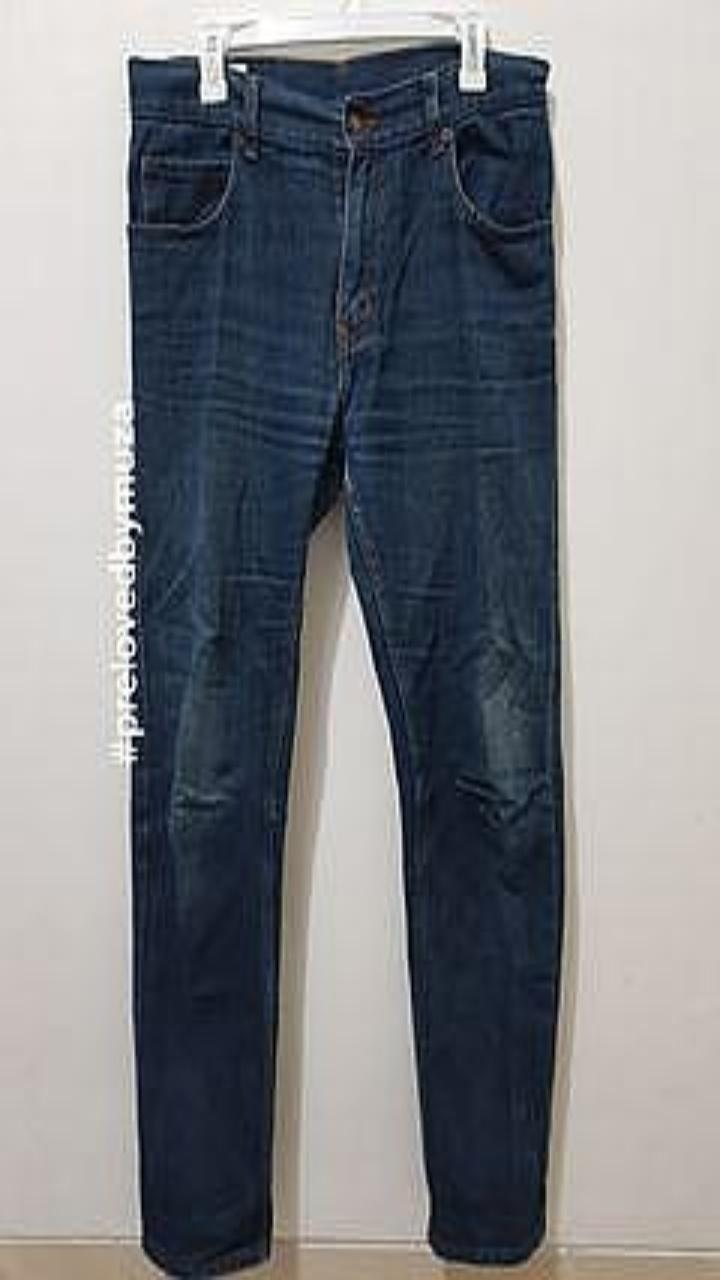Jeans: (127, 42, 563, 1277)
